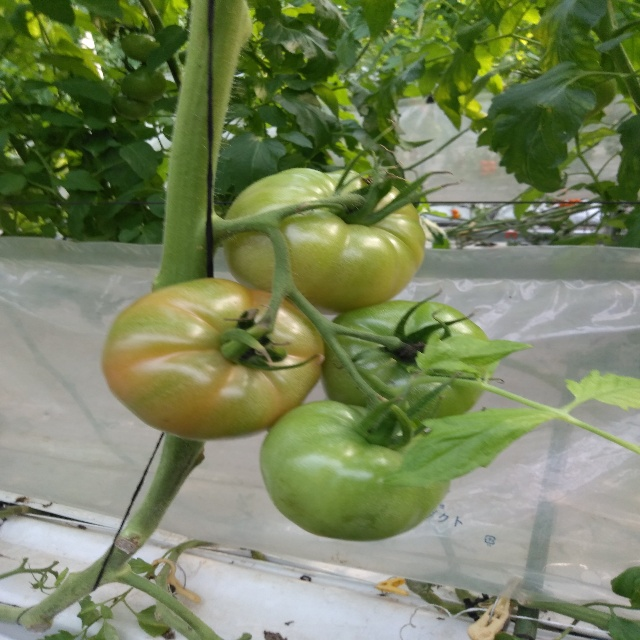b_green: (259, 400, 452, 541), (321, 299, 498, 419)
b_half_ripened: (101, 278, 324, 441), (222, 168, 427, 316)
